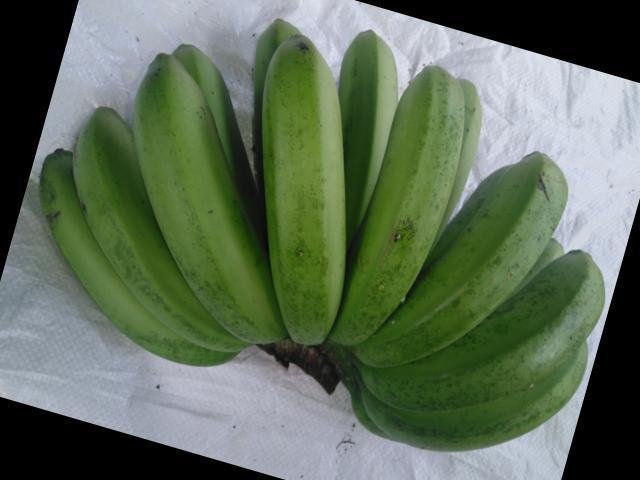unripe: (345, 145, 582, 375), (319, 48, 469, 355), (133, 32, 259, 370), (243, 17, 363, 355), (387, 241, 614, 408), (64, 104, 196, 367)
